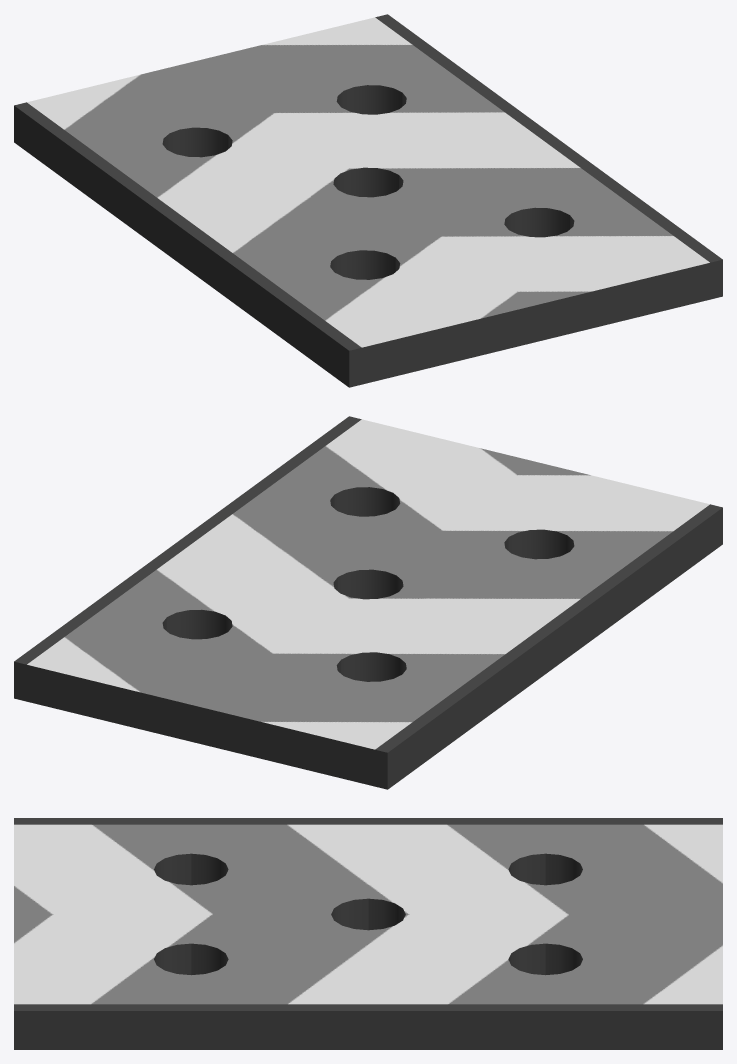
The model's file is obstacle.ball.fbx.
3 views of the same model, one above another, from view 1: azimuth 30°, elevation 25°; view 2: azimuth 150°, elevation 25°; view 3: azimuth 270°, elevation 25° (orthographic). The views are drawn at different scales.
Parts seen in each view (by area): view 1: obstacle.ball; view 2: obstacle.ball; view 3: obstacle.ball.
Part boxes in pixels (<box>): obstacle.ball: <box>14,14,722,387</box>; obstacle.ball: <box>14,416,722,789</box>; obstacle.ball: <box>14,818,722,1049</box>.
Size of the model in its own units: 481 by 45.44 by 747.
